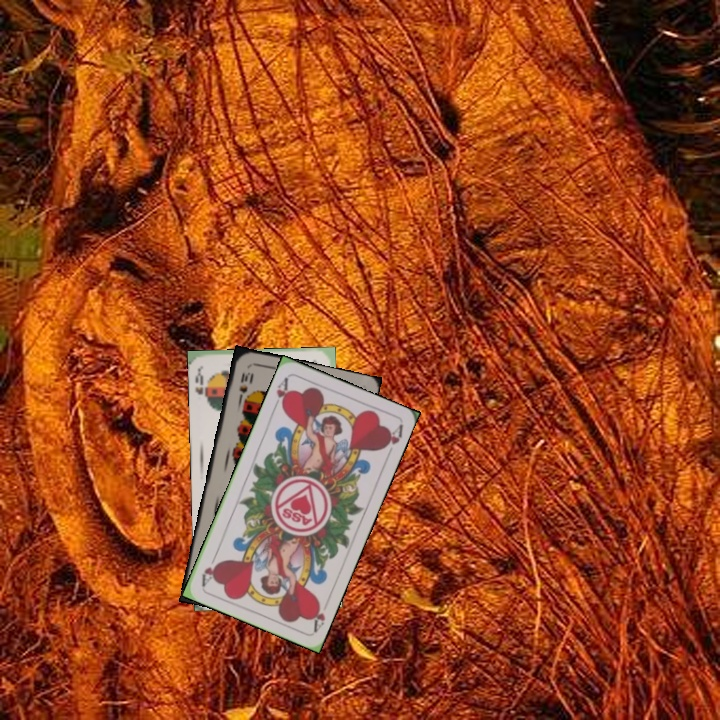HA: (269, 373, 293, 412), (307, 597, 328, 634)
S10: (235, 368, 254, 404)
SO: (191, 365, 211, 405)
